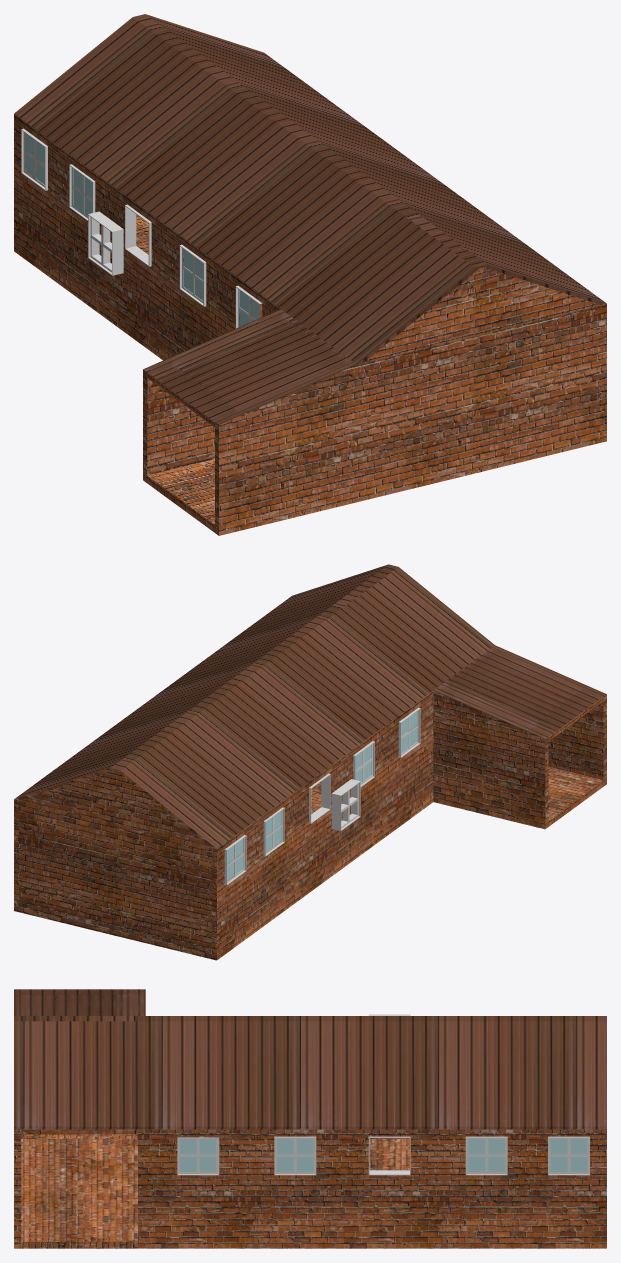
File: Factory 1.fbx
The picture shows the model from 3 angles, top to bottom: view 1: azimuth 30°, elevation 25°; view 2: azimuth 150°, elevation 25°; view 3: azimuth 270°, elevation 25°; orthographic projection. The views are drawn at different scales.
Visible parts, largest first — view 1: Factory, Cube.002; view 2: Factory, Cube.002; view 3: Factory.
Boxes of the visible parts, x1,y1,x2,y2 form: Factory: (14, 14, 606, 535); Cube.002: (88, 211, 123, 275); Factory: (14, 564, 606, 960); Cube.002: (331, 779, 360, 831); Factory: (14, 989, 606, 1248).
Bounding box in the file's own units: 3569 × 1795 × 5436.
